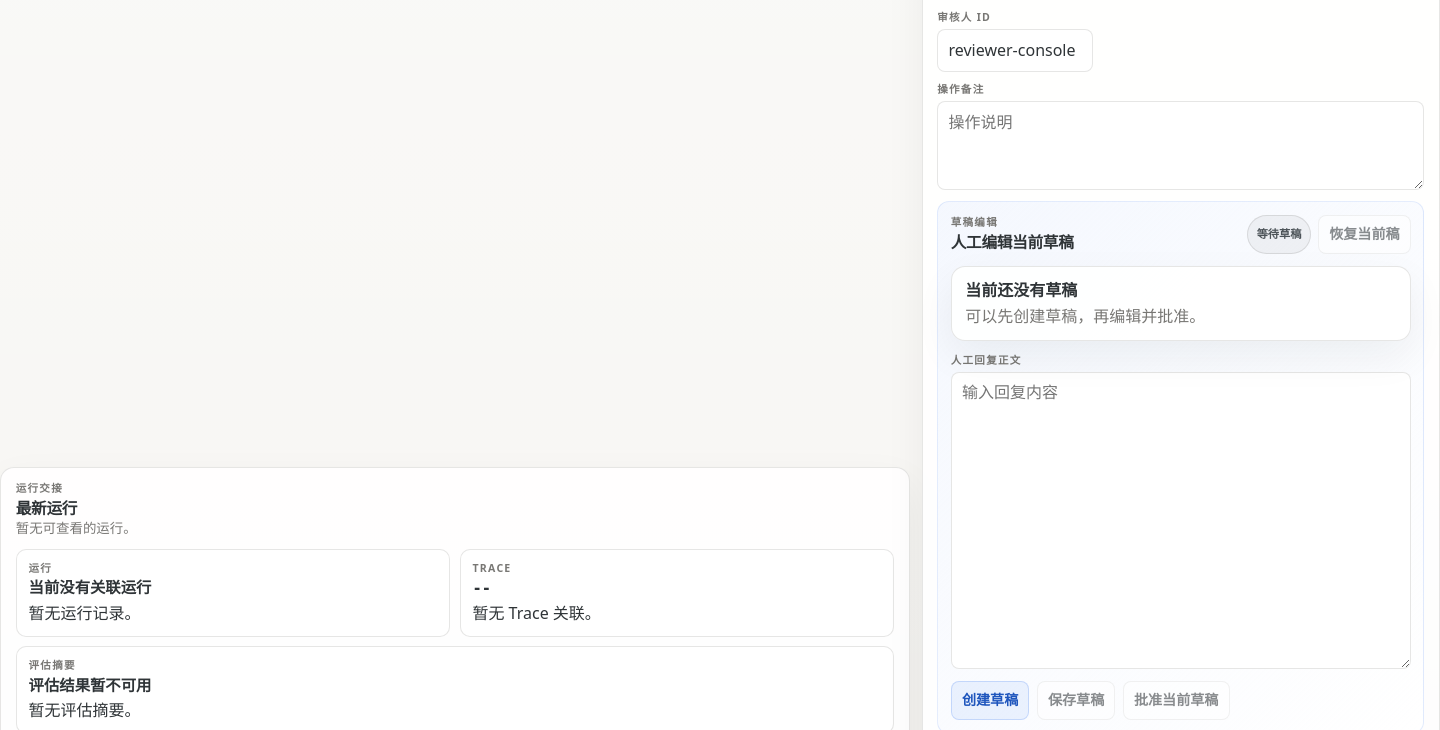
Scenario: TicketDetailPageV2 › queues draft generation directly from the detail page when no draft exists
(page scrolled)
Check: the field showing "reviewer-console" is shown, box [937,29,1093,72]
Click the button "创建草稿".
click(990, 701)  # box [951,681,1030,720]
(page scrolled)
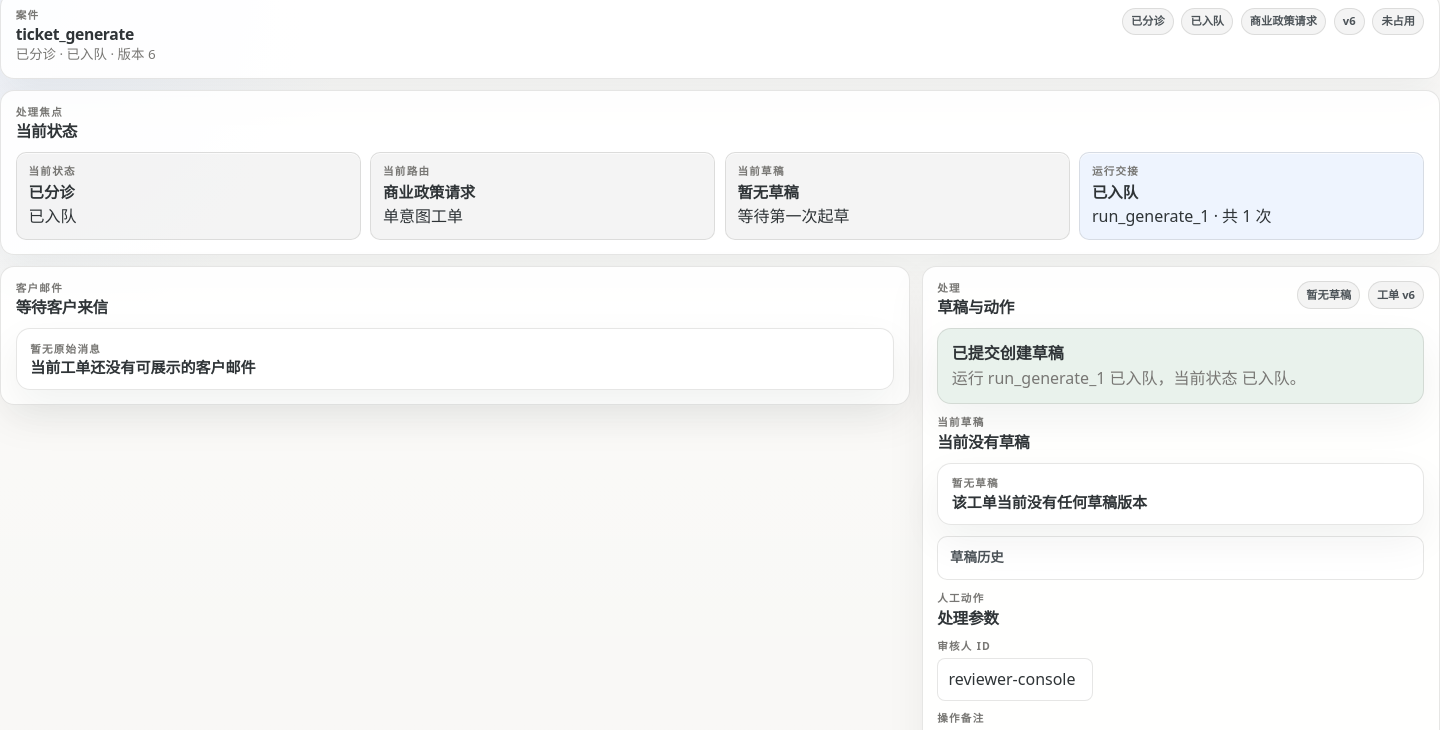
Check: the text "已提交创建草稿" is shown, box [952,342,1064,364]
Check: the text "运行 run_generate_1 已入队，当前状态 已入队。" is shown, box [952,367,1306,389]
